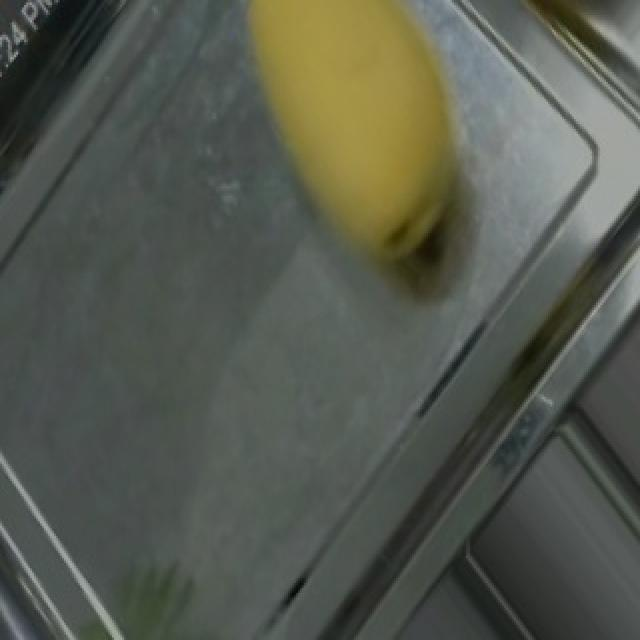fruit: (172, 0, 560, 298)
